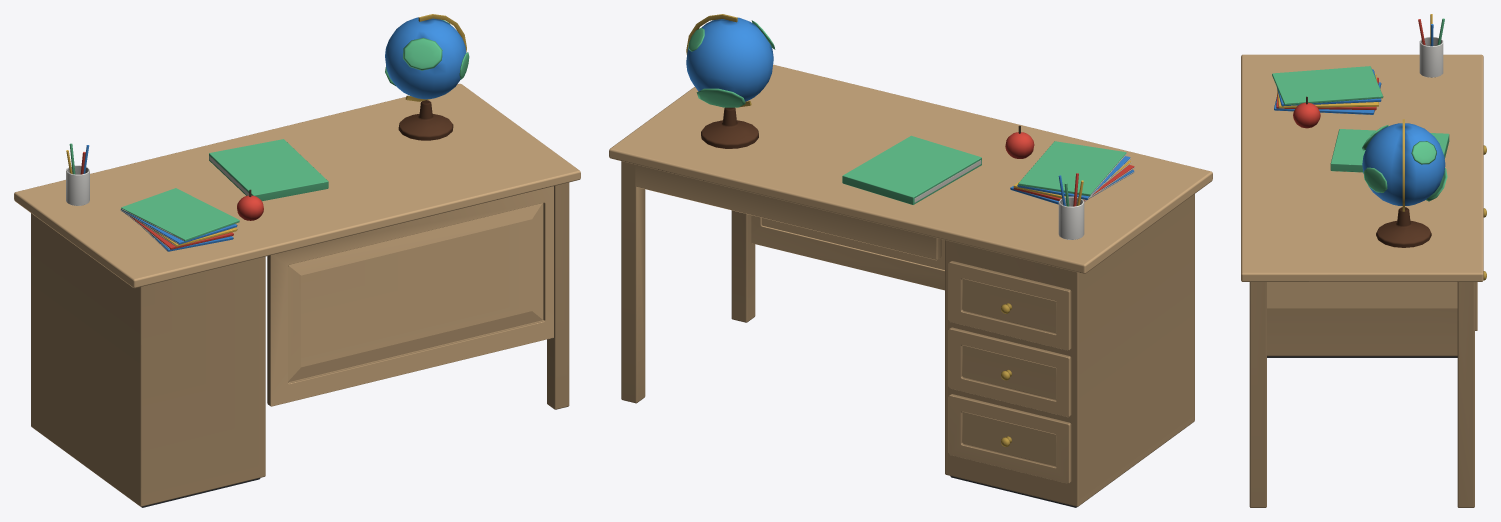
File: teacherDesk.glb
3 renders of one model, left to right at view 1: azimuth 30°, elevation 25°; view 2: azimuth 150°, elevation 25°; view 3: azimuth 270°, elevation 25°, orthographic. The views are drawn at different scales.
Visible parts, largest first — view 1: desk; view 2: desk; view 3: desk.
Boxes of the visible parts, box(x1,y1,x2,y2) form: desk: box(14, 14, 580, 507); desk: box(609, 14, 1212, 507); desk: box(1241, 14, 1486, 507).
Bounding box in the file's own units: 1.5 × 1.12 × 0.7099.
